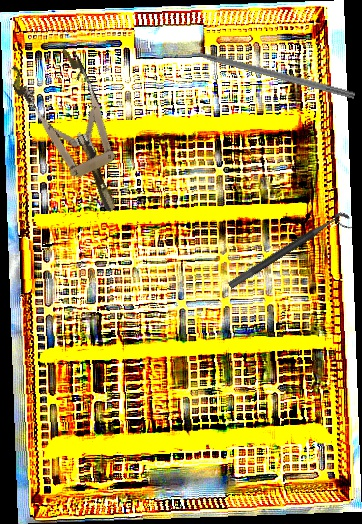Fixation Ring: (227, 208, 355, 300)
Hook Surgical: (174, 42, 356, 99)
Speculum: (5, 39, 144, 227)
